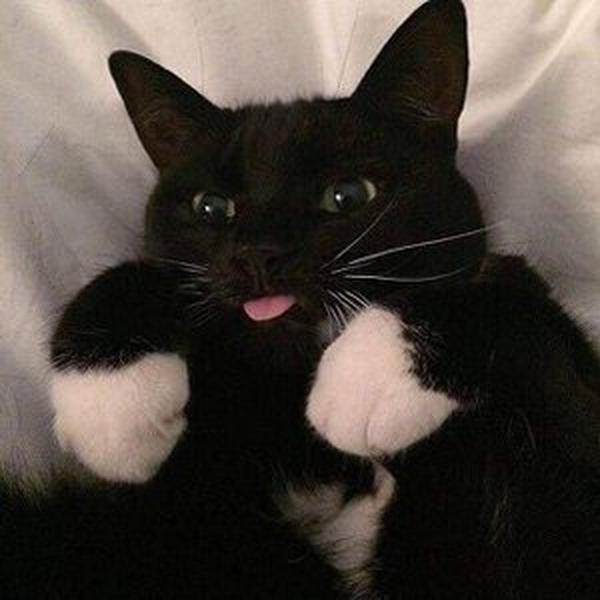michi: (31, 1, 600, 590)
